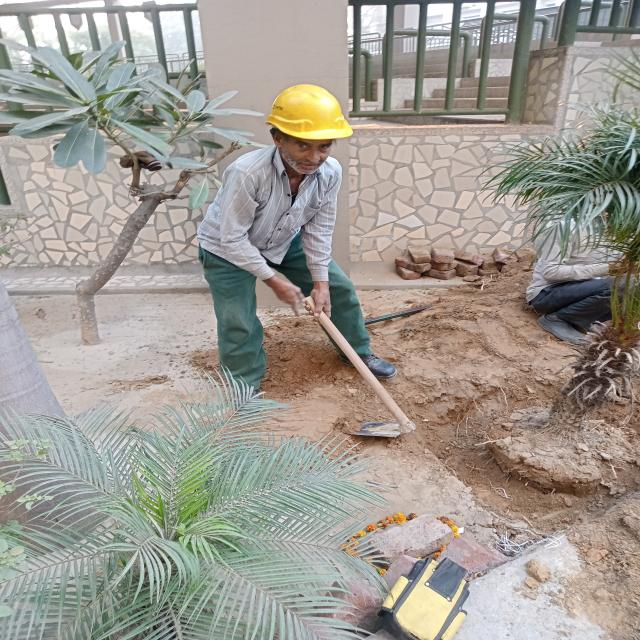no jacket: (185, 80, 408, 399)
